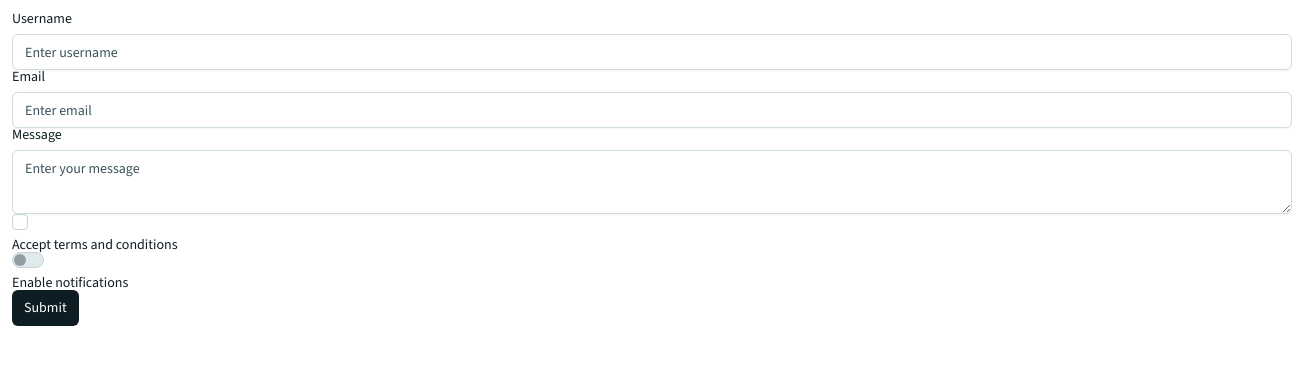
Scenario: Form Integration › Form validation › shows checkbox validation error
Fill valid inputs but don't accept terms
Type "johndoe" into the field with placeholder "Enter username" at (652, 52), box 12,34 -> 1292,70
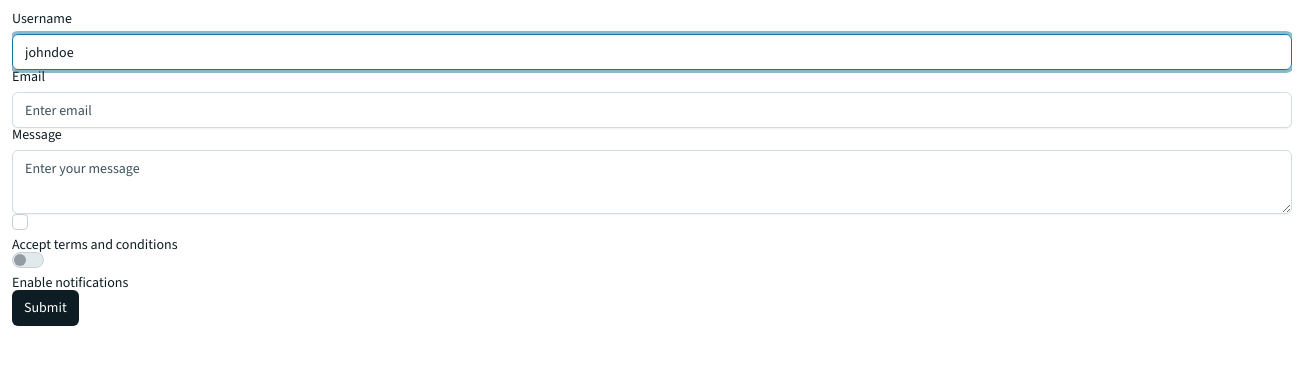
Type "john@example.com" into the field with placeholder "Enter email" at (652, 110), box 12,92 -> 1292,128
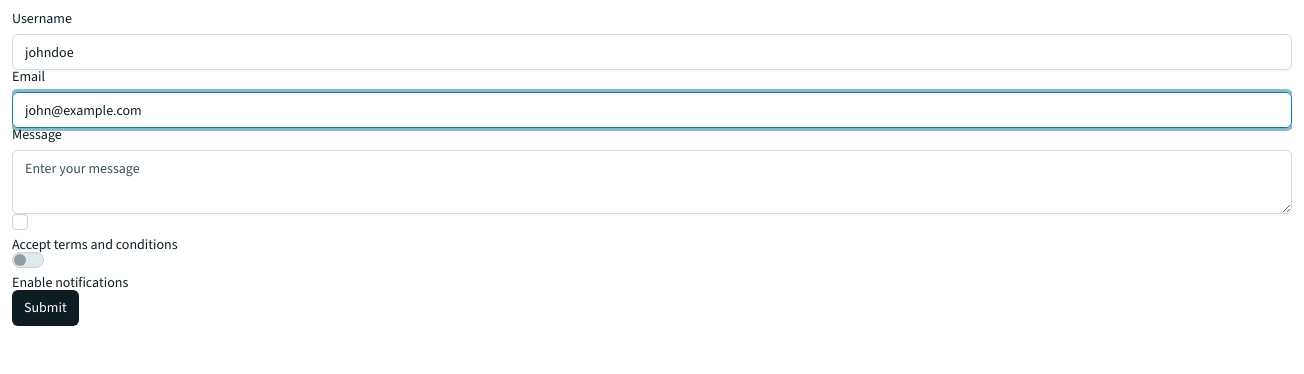
Type "This is a test message that is long enough" into the text box with placeholder "Enter your message" at (652, 182), box 12,150 -> 1292,214
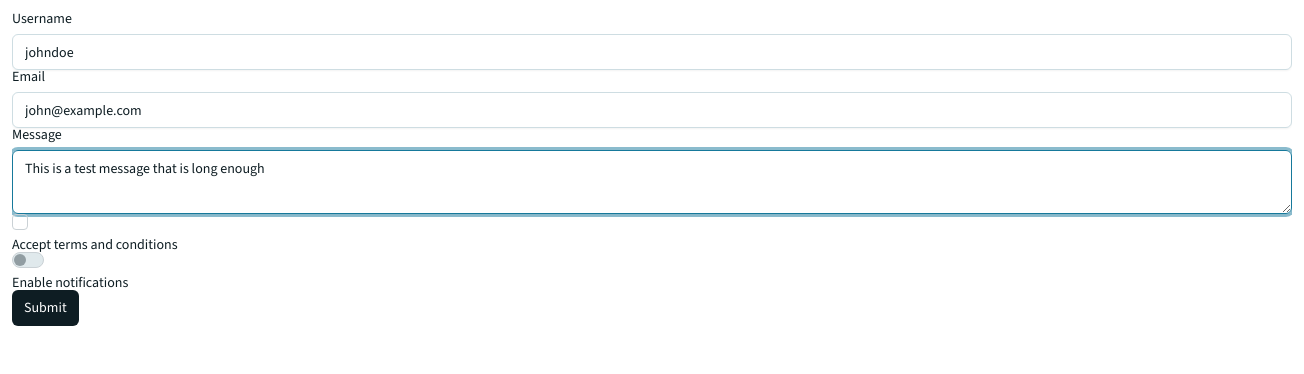
Click the button "Submit" at (45, 308), box 12,290 -> 79,326
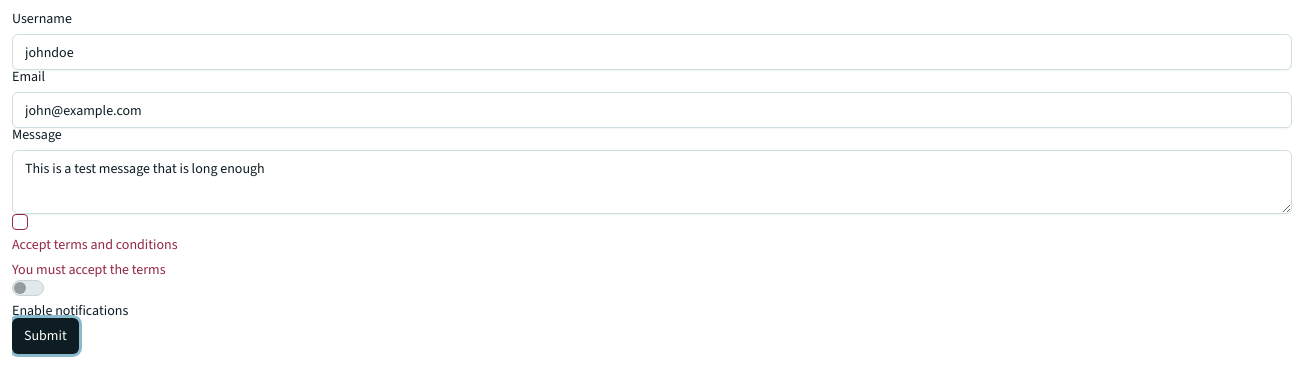
Expected: the text "You must accept the terms" is shown, 12,260 -> 166,279
